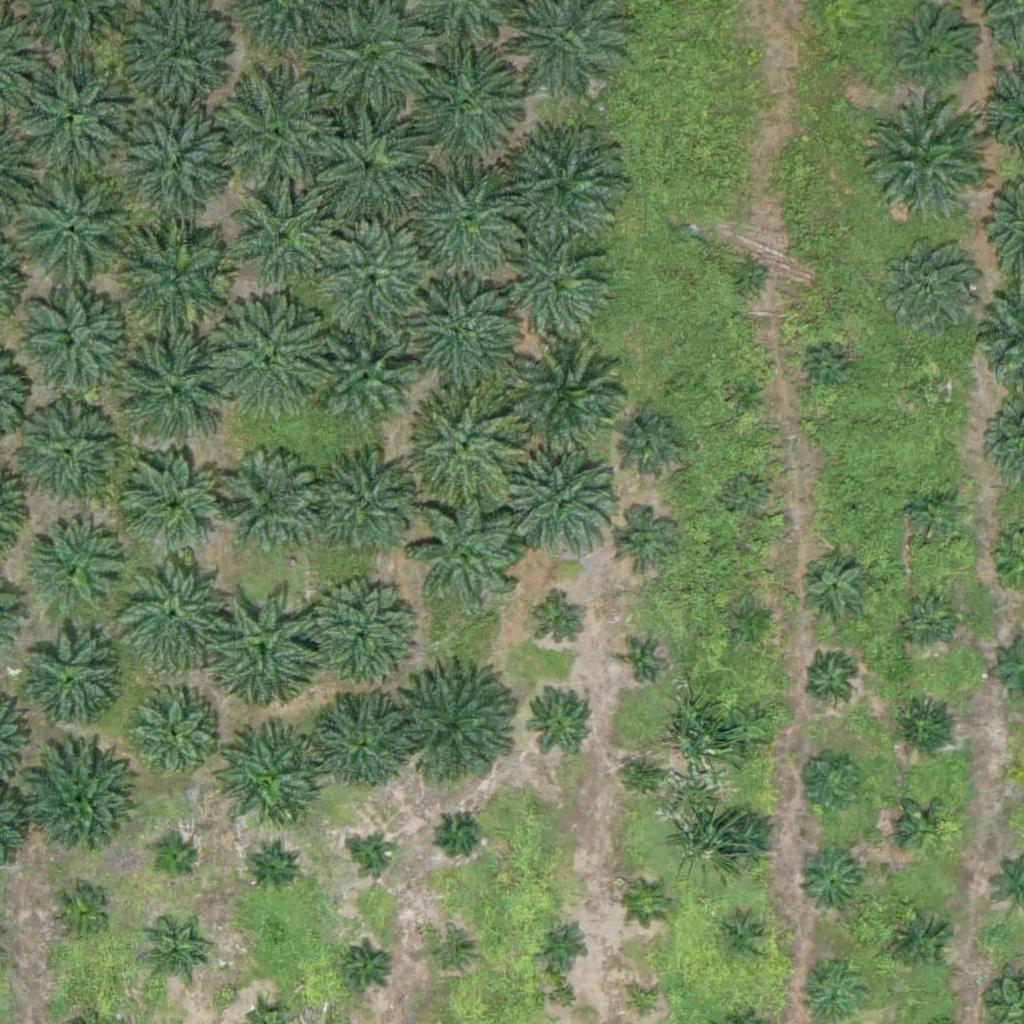Kelapa_Sawit: (9, 285, 134, 411), (9, 168, 134, 294), (115, 215, 240, 341), (114, 331, 239, 457), (212, 71, 337, 197), (308, 2, 433, 128), (302, 105, 427, 231), (310, 227, 435, 353), (397, 278, 522, 404), (405, 164, 530, 290), (400, 43, 525, 169), (498, 126, 623, 252), (509, 346, 634, 472), (858, 97, 983, 223), (203, 585, 328, 711), (111, 551, 236, 677), (15, 51, 140, 176), (115, 102, 240, 227), (210, 298, 335, 423), (399, 666, 524, 791), (20, 747, 133, 861), (411, 493, 524, 606), (300, 579, 413, 692), (508, 453, 620, 566), (412, 388, 524, 501), (209, 729, 321, 842), (235, 189, 335, 290), (509, 241, 609, 342), (879, 236, 979, 337), (310, 690, 410, 791), (316, 455, 416, 556), (215, 454, 315, 555), (125, 457, 225, 558), (124, 684, 224, 785), (13, 404, 113, 505), (25, 520, 125, 621), (17, 629, 117, 729), (320, 337, 407, 426), (891, 1, 978, 89), (791, 746, 866, 822), (523, 682, 598, 757), (141, 927, 204, 990), (47, 881, 110, 944), (714, 810, 777, 873), (610, 509, 673, 572), (620, 411, 683, 474), (893, 694, 956, 757), (903, 484, 966, 547), (799, 851, 861, 914), (889, 911, 951, 974), (800, 553, 862, 616), (718, 914, 768, 965), (537, 599, 587, 650), (725, 708, 775, 759), (899, 803, 949, 853), (248, 842, 298, 892), (342, 940, 392, 990), (807, 655, 857, 705), (901, 596, 951, 646), (538, 919, 588, 969), (149, 837, 199, 887), (632, 884, 670, 922), (439, 812, 477, 850), (725, 475, 763, 513), (729, 377, 767, 415), (730, 258, 768, 296), (732, 601, 770, 639), (625, 985, 663, 1023), (356, 838, 393, 876), (915, 371, 953, 408), (811, 351, 848, 389), (433, 936, 470, 974), (623, 646, 660, 683), (627, 756, 664, 793), (842, 501, 867, 526)
